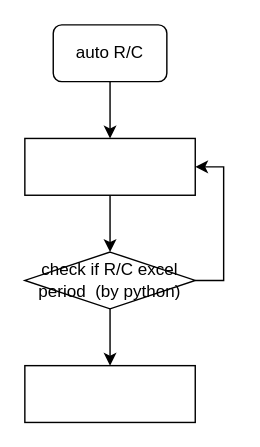
This 260x447 diagram has some shape labels left out. Here are the shapes that lost their labels. From the top down, the centre of each, then its label:
At (x=109, y=166): "需中控台定時 log-in 公用電腦".
At (x=109, y=393): "trigger RPA issue R/C".
